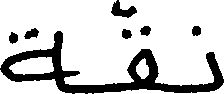ة: (0, 26, 63, 93)
ق: (118, 21, 157, 91)
ن: (188, 23, 222, 92)
